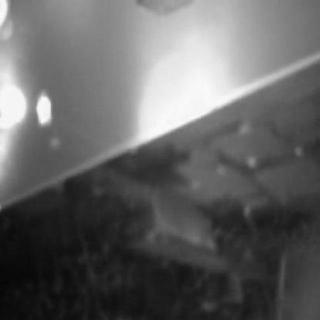other: (0, 9, 38, 150)
